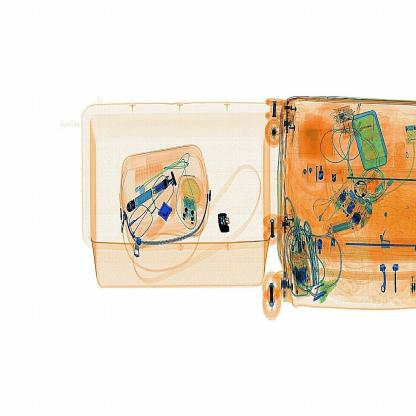pliers: (219, 210, 232, 239)
